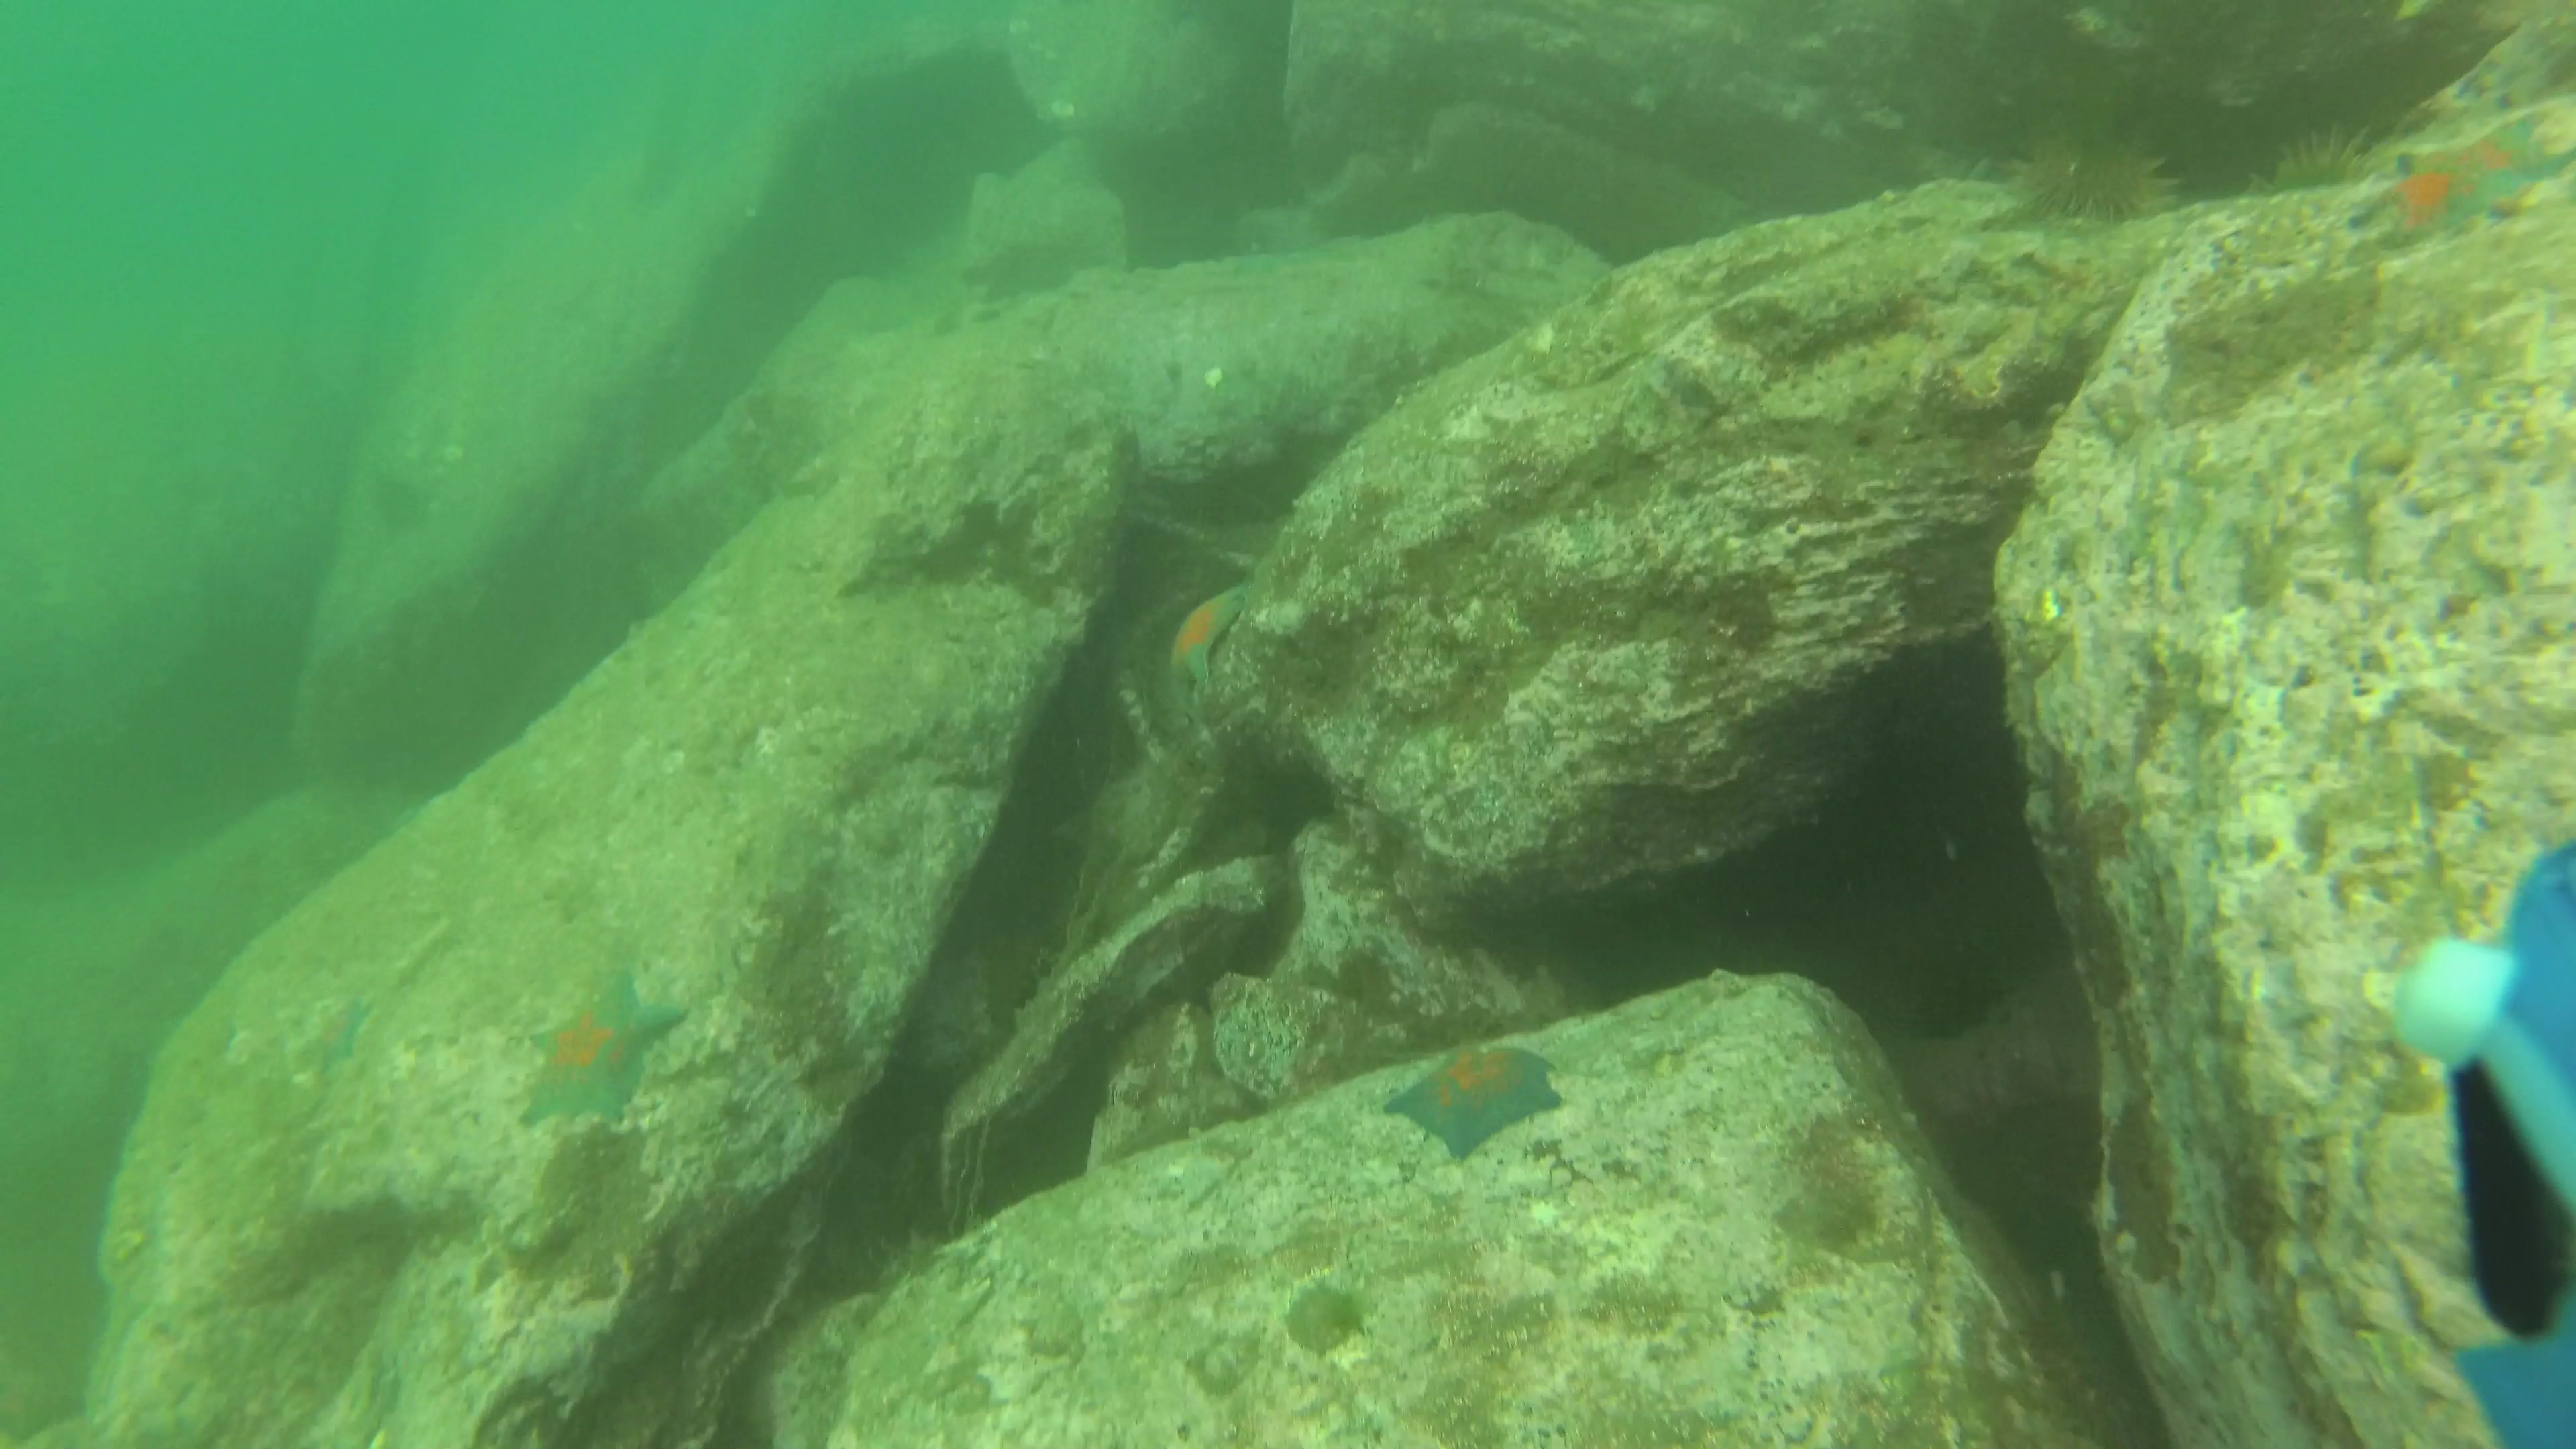echinus: (1999, 119, 2189, 230), (2265, 119, 2401, 193)
starfish: (2346, 108, 2576, 257), (502, 966, 697, 1136), (1373, 1028, 1573, 1168), (1162, 580, 1253, 692), (303, 996, 377, 1074)
